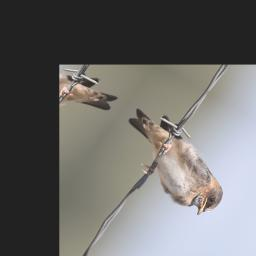Swallow: (97, 101, 252, 222)
